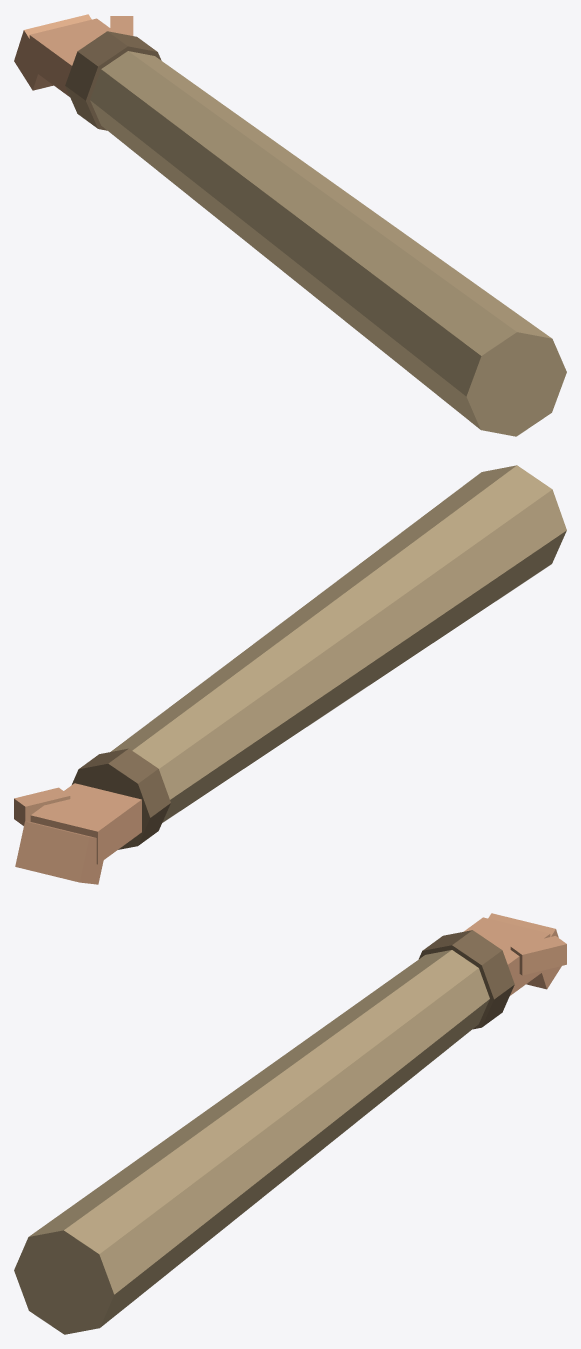
The model's file is fp_arm_l.glb.
The picture shows the model from 3 angles, top to bottom: view 1: azimuth 30°, elevation 25°; view 2: azimuth 150°, elevation 25°; view 3: azimuth 330°, elevation 25°; orthographic projection.
Parts seen in each view (by area): view 1: arm; view 2: arm; view 3: arm.
Boxes of the visible parts, x1,y1,x2,y2 form: arm: (14, 14, 566, 436); arm: (14, 465, 566, 884); arm: (14, 913, 566, 1334).
Bounding box in the file's own units: 0.123 × 0.113 × 0.9084.
